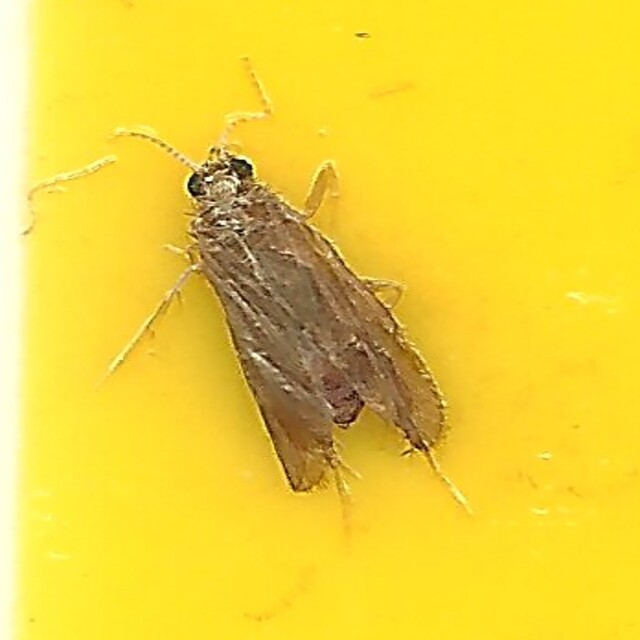Trichoptera: (184, 145, 456, 495)
